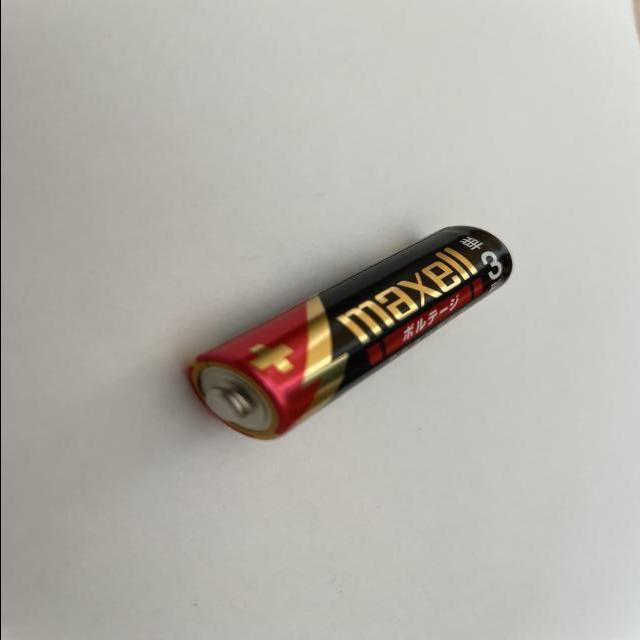AA: (182, 224, 512, 444)
